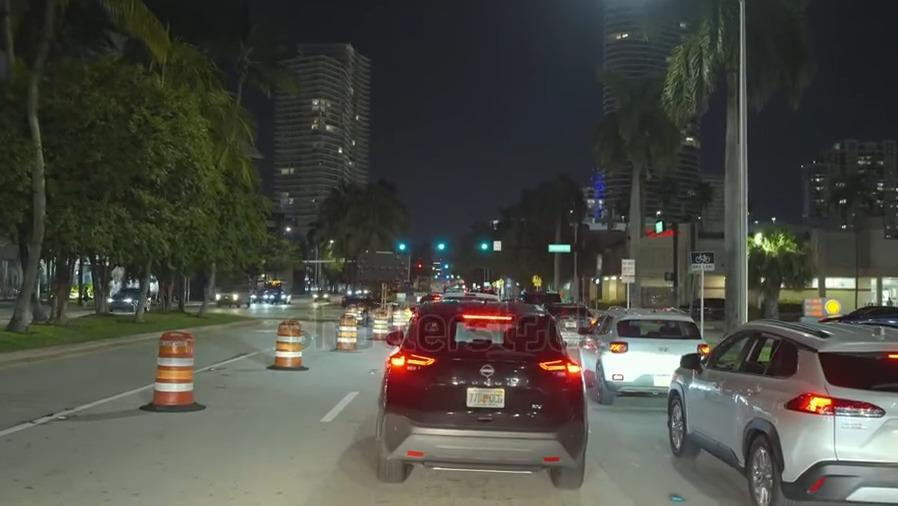car: (678, 323, 898, 506), (382, 301, 585, 487), (571, 306, 704, 399), (824, 304, 898, 331), (665, 292, 727, 322), (549, 299, 593, 339), (104, 284, 153, 313), (341, 289, 399, 313), (211, 283, 247, 309), (271, 287, 294, 304), (251, 286, 268, 303), (308, 289, 330, 302)
cone: (153, 328, 197, 410), (273, 318, 301, 368), (336, 311, 355, 352), (373, 309, 387, 343), (389, 308, 407, 333)
traffic light: (475, 236, 495, 262), (393, 235, 411, 258), (433, 236, 452, 256)
wheel: (746, 428, 785, 503), (663, 391, 693, 454)
